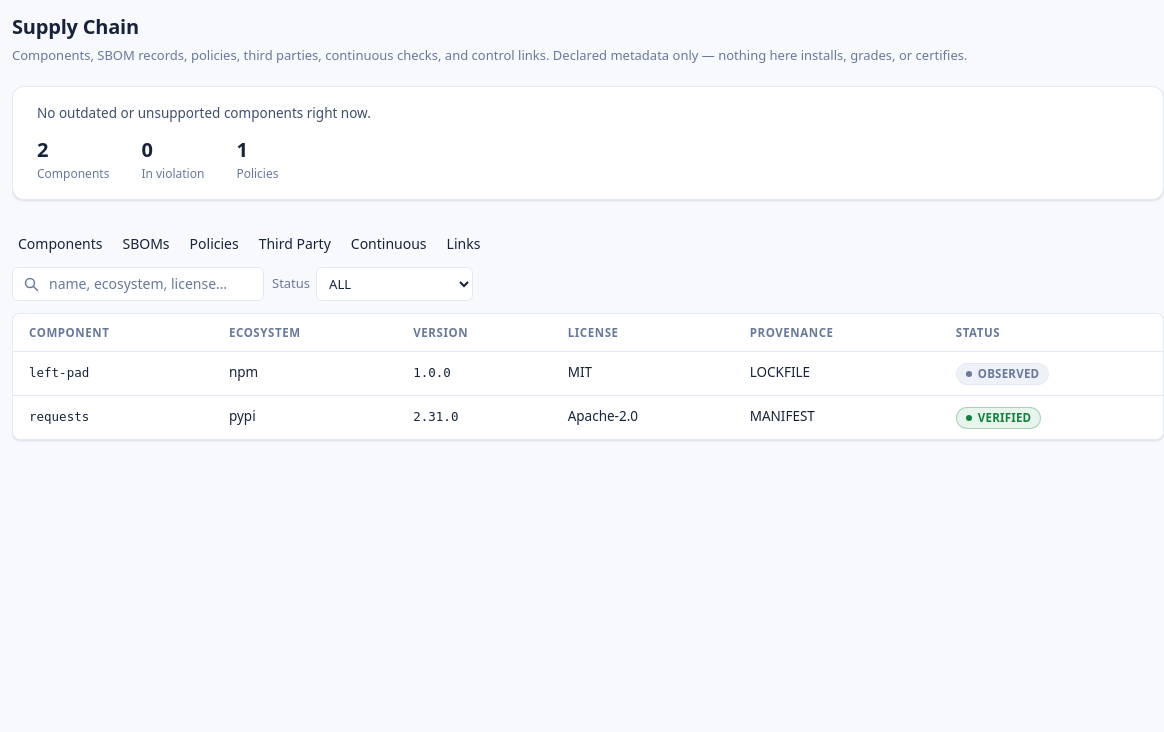
Scenario: SupplyChain view › shows continuous checks and derived history
Expected: the text "left-pad" is shown, [29,365,89,380]
Click the tab "Continuous" at [389, 243], box [345,232,433,255]
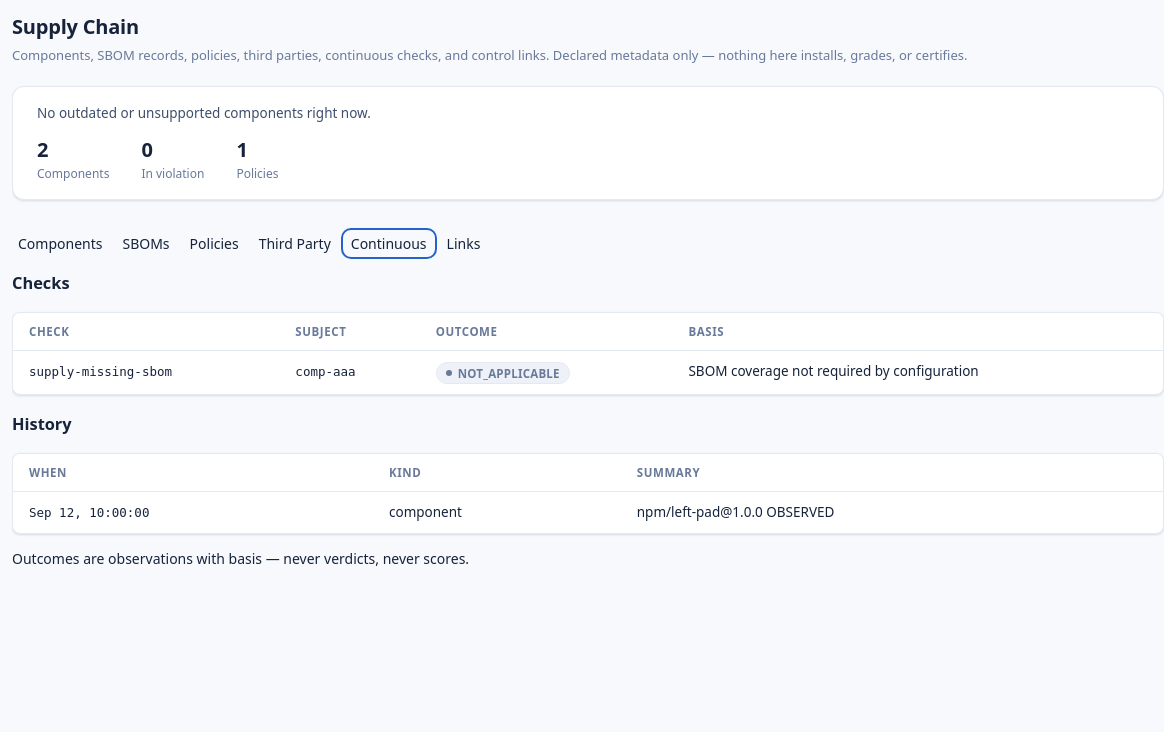
Result: the text "supply-missing-sbom" is shown at [29,364,172,379]
Result: the text "NOT_APPLICABLE" is shown at [436,362,570,384]
Result: the text "npm/left-pad@1.0.0 OBSERVED" is shown at [621,491,1163,533]
